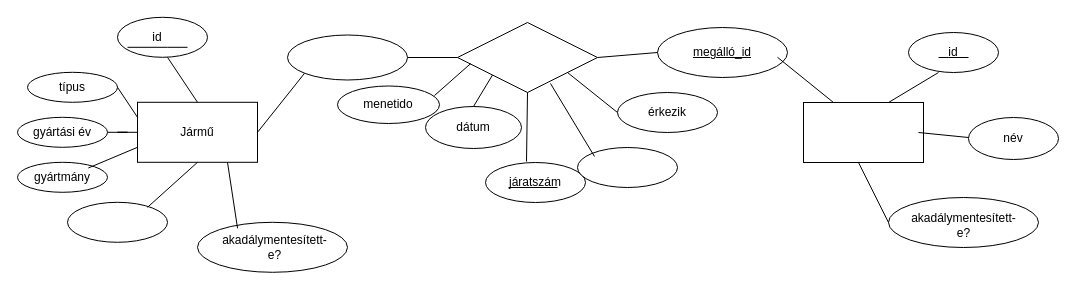
Image size: 1076x290. Some labels were removed from this diagram. The shapes that lost their labels are listed below. From the top down, each one's centre as x and y in pixels, then its label:
At [347,57]: "jármű_id".
At [527,57]: "Menetrend".
At [863,132]: "Megálló".
At [627,167]: "indul".
At [117,221]: "üzemeltető".
